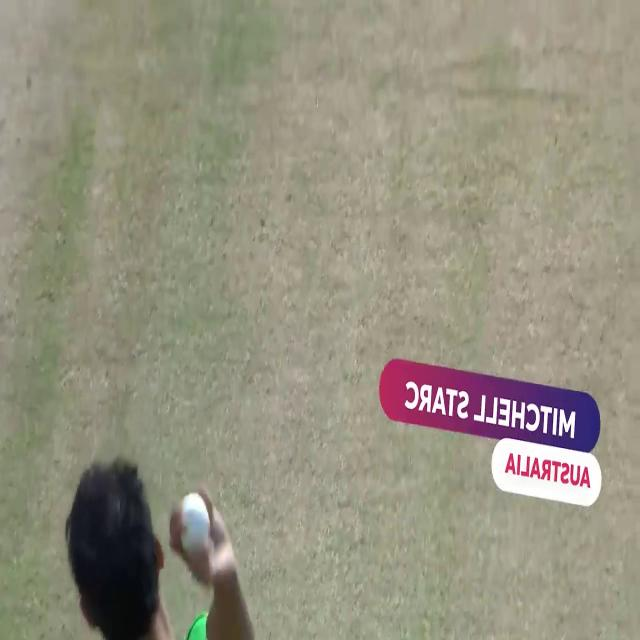ball: (169, 479, 219, 566)
